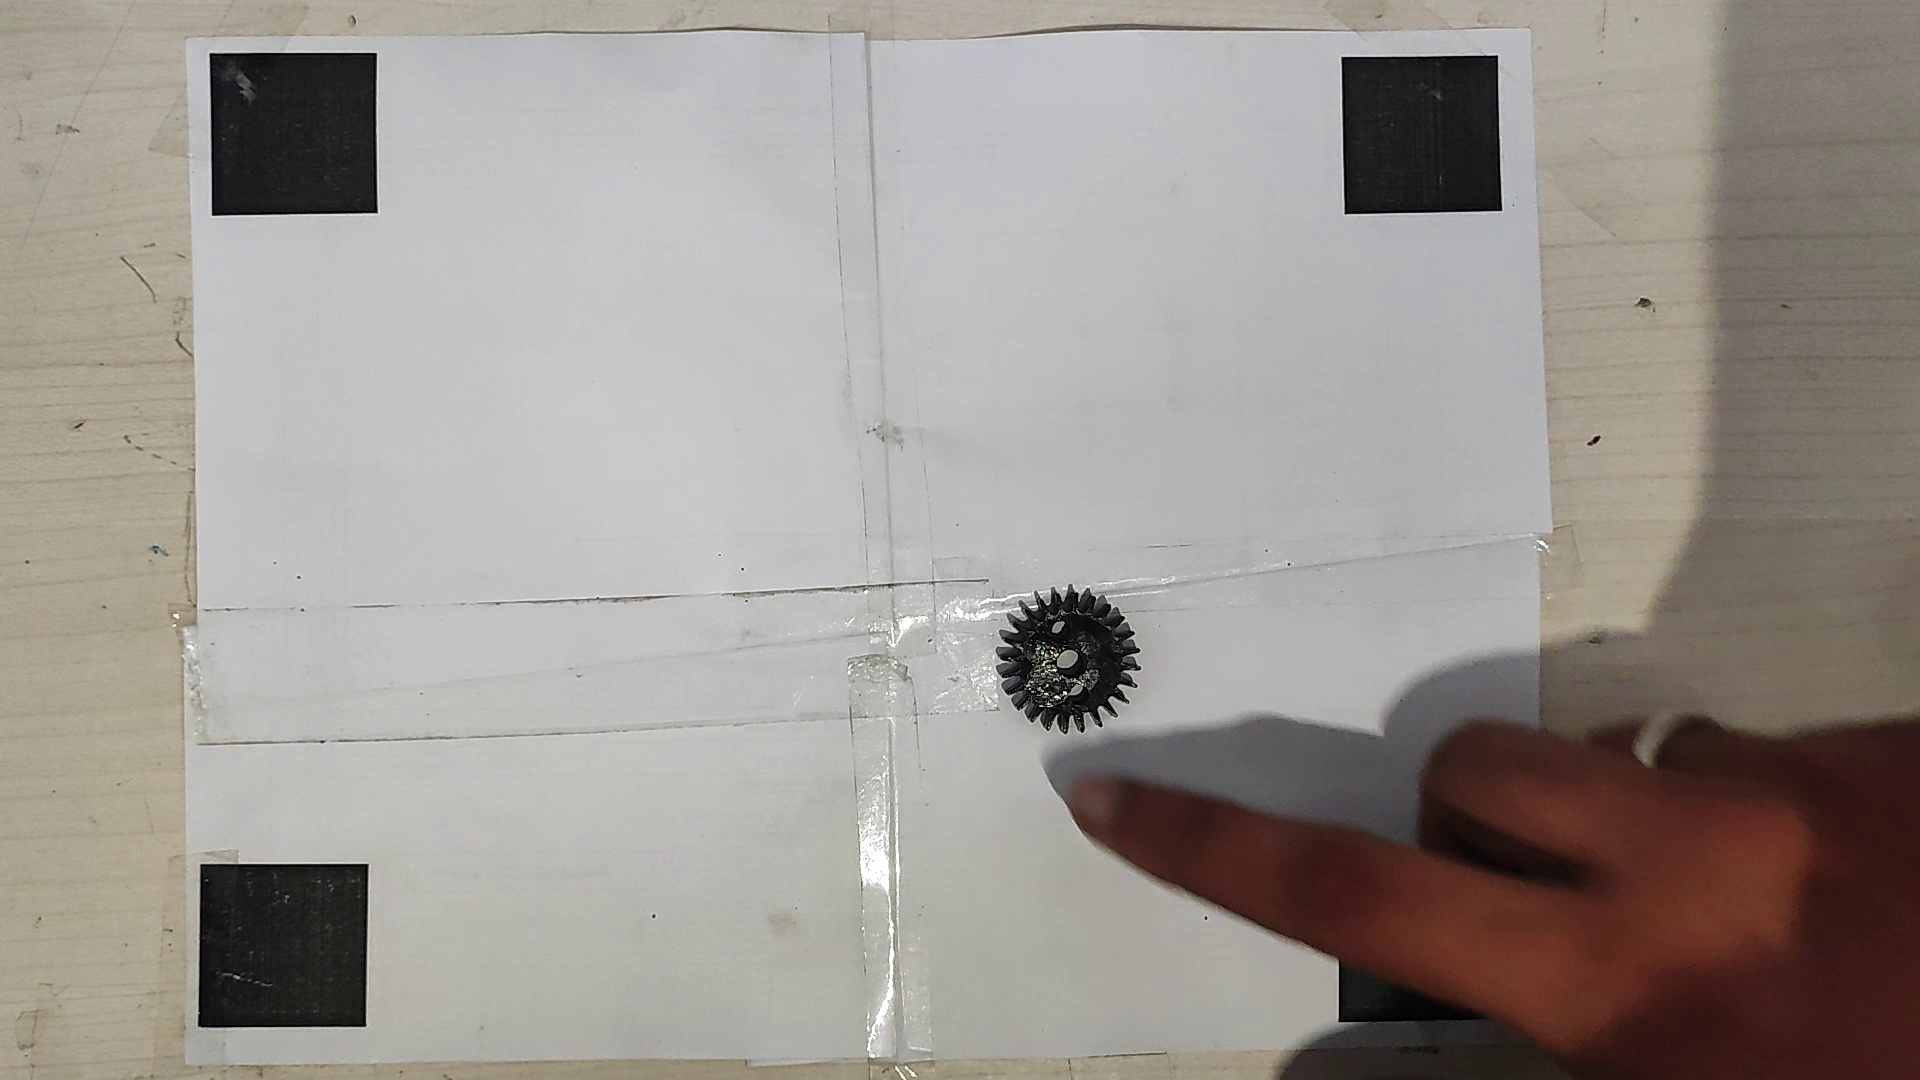Gear: (992, 580, 1142, 741)
